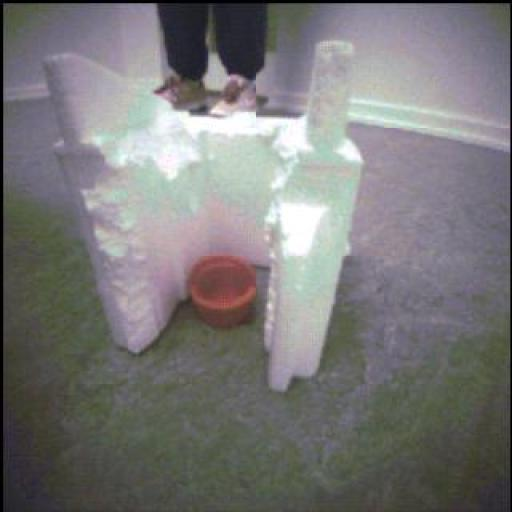Bucket: (187, 252, 257, 331)
